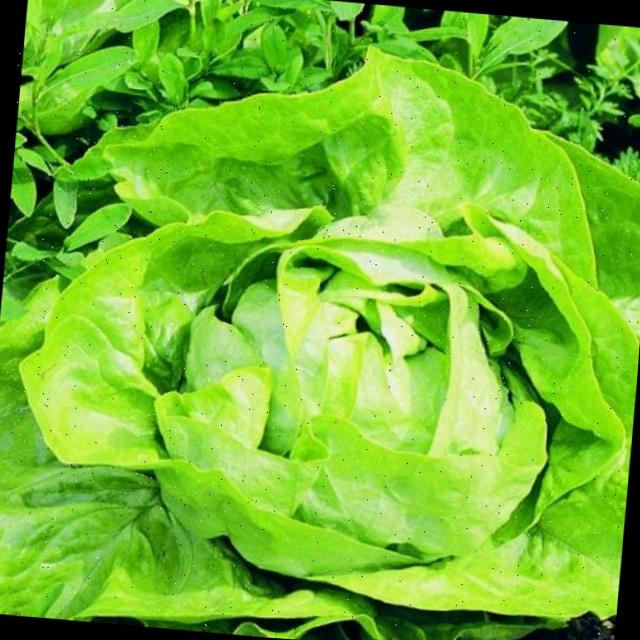Powdery_mildew_on_lettuce: (198, 250, 547, 542)
